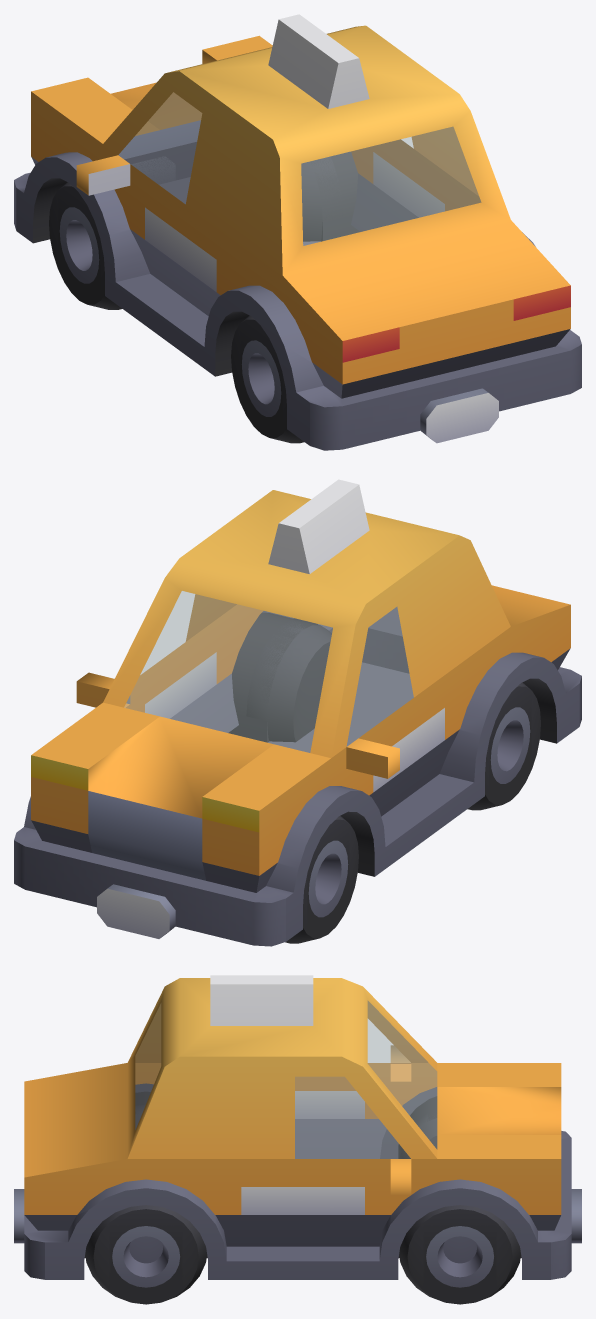
The model's file is taxi.glb.
3 renders of one model, top to bottom at view 1: azimuth 30°, elevation 25°; view 2: azimuth 150°, elevation 25°; view 3: azimuth 270°, elevation 25°, orthographic. The views are drawn at different scales.
Visible parts, largest first — view 1: body, wheel-back-left, wheel-front-left, wheel-front-right; view 2: body, wheel-back-right, wheel-front-left, wheel-back-left; view 3: body, wheel-back-right, wheel-front-right, wheel-front-left.
Boxes of the visible parts, bbox=[...] form: body: bbox=[14, 14, 581, 450]; wheel-back-left: bbox=[231, 315, 304, 443]; wheel-front-left: bbox=[49, 182, 122, 309]; wheel-front-right: bbox=[301, 156, 342, 241]; body: bbox=[14, 479, 581, 946]; wheel-back-right: bbox=[246, 620, 331, 742]; wheel-front-left: bbox=[285, 815, 358, 943]; wheel-back-left: bbox=[467, 682, 540, 810]; body: bbox=[14, 975, 581, 1279]; wheel-back-right: bbox=[85, 1205, 207, 1304]; wheel-front-right: bbox=[399, 1205, 520, 1304]; wheel-front-left: bbox=[399, 1113, 437, 1158].
Size of the model in its own units: 2.4 by 2.4 by 4.4.
Materials: 2 (1 with a texture image).
